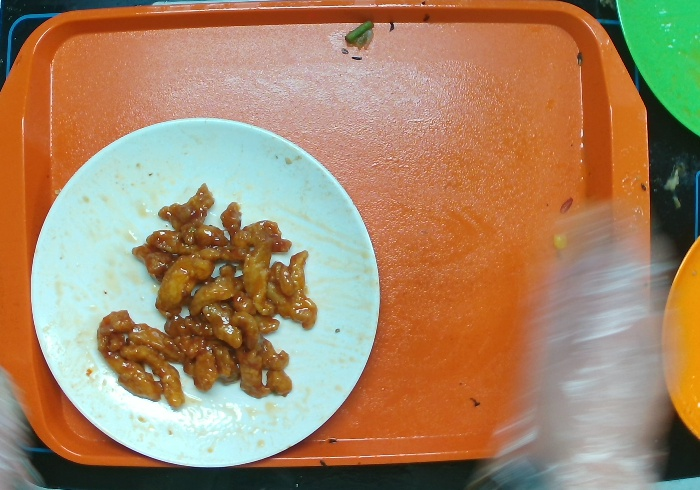HZYJPL-Bai_Se_Yuan_Pan: (16, 100, 402, 475)
